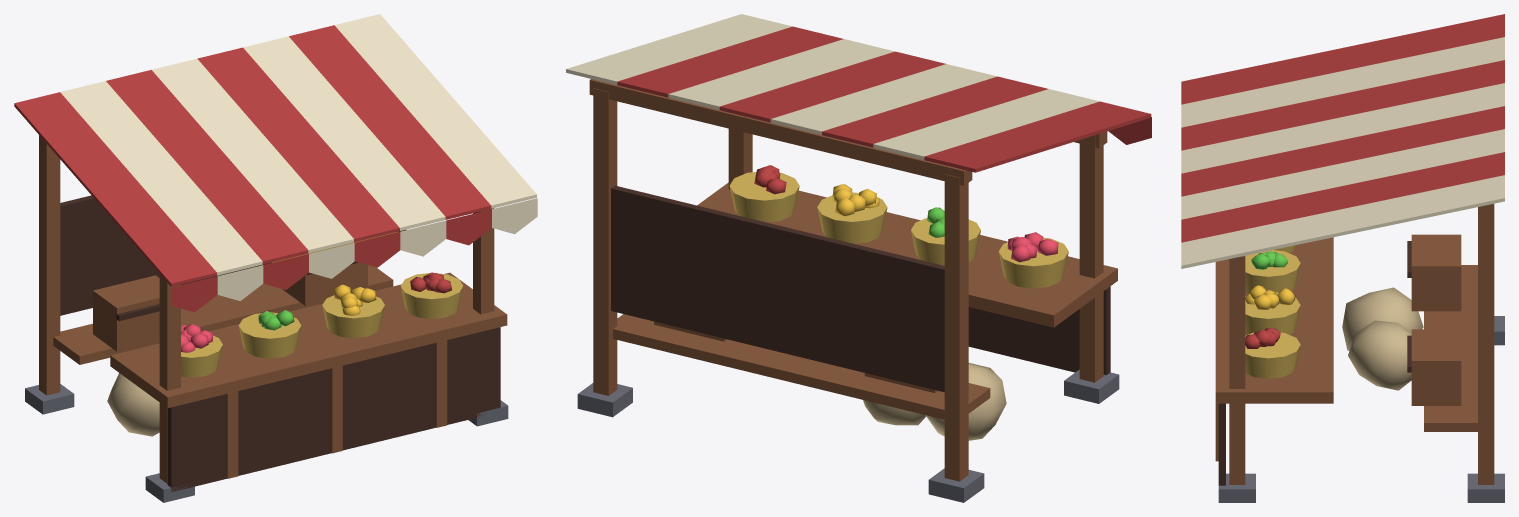
Rendered from stall.glb.
The picture shows the model from 3 angles, left to right: view 1: azimuth 30°, elevation 25°; view 2: azimuth 150°, elevation 25°; view 3: azimuth 270°, elevation 25°; orthographic projection. The views are drawn at different scales.
Visible parts, largest first — view 1: pad; view 2: pad; view 3: pad.
Boxes of the visible parts, bbox=[...] form: pad: bbox=[14, 14, 537, 502]; pad: bbox=[566, 14, 1151, 502]; pad: bbox=[1181, 14, 1504, 502].
Size of the model in its own units: 3.5 by 2.75 by 2.61.
